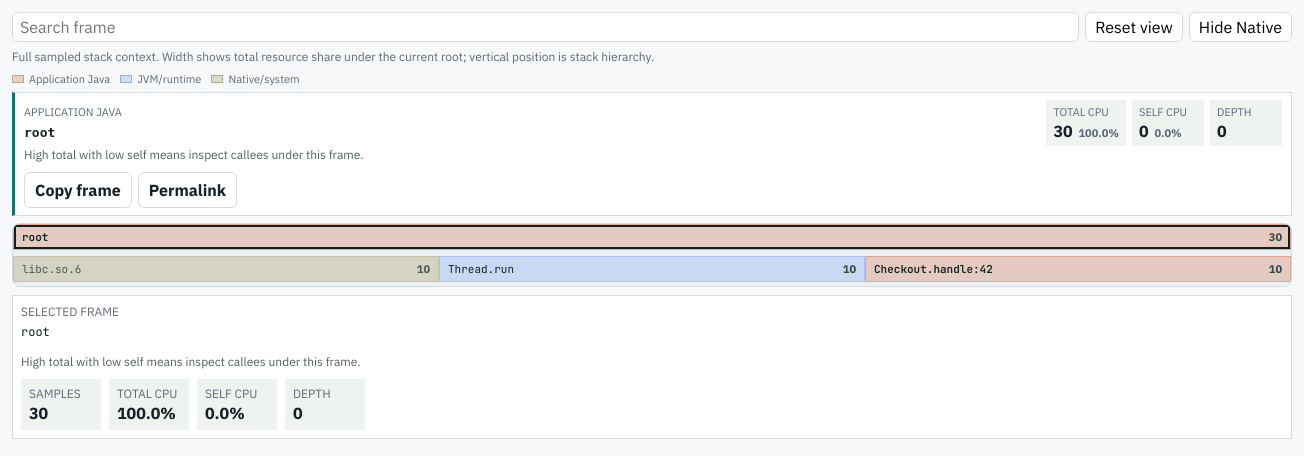
Test: hides native and runtime frames without removing application frames
Click the button "Hide Native".
click(1240, 27)  # box 1189,12 -> 1292,42
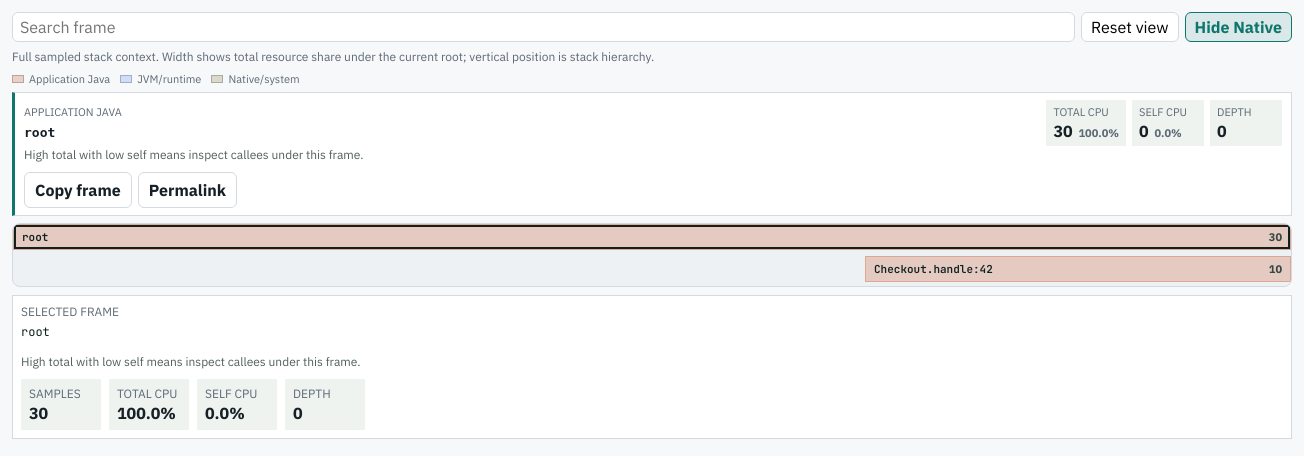
Expected: the button "Checkout.handle:42 10" is shown, 865,256 -> 1291,282
Result: the button "libc.so" is gone
Result: the button "Thread.run" is gone
